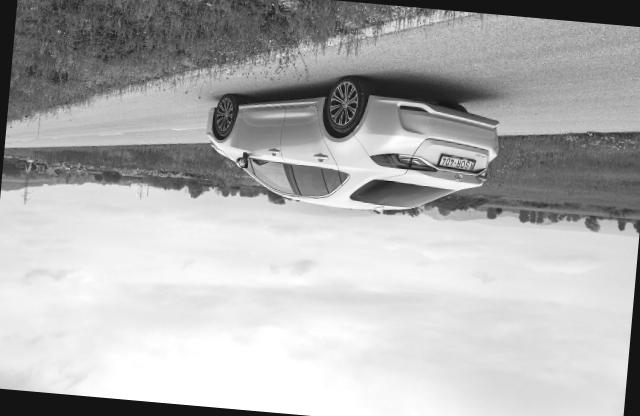sedan: (192, 56, 510, 230)
